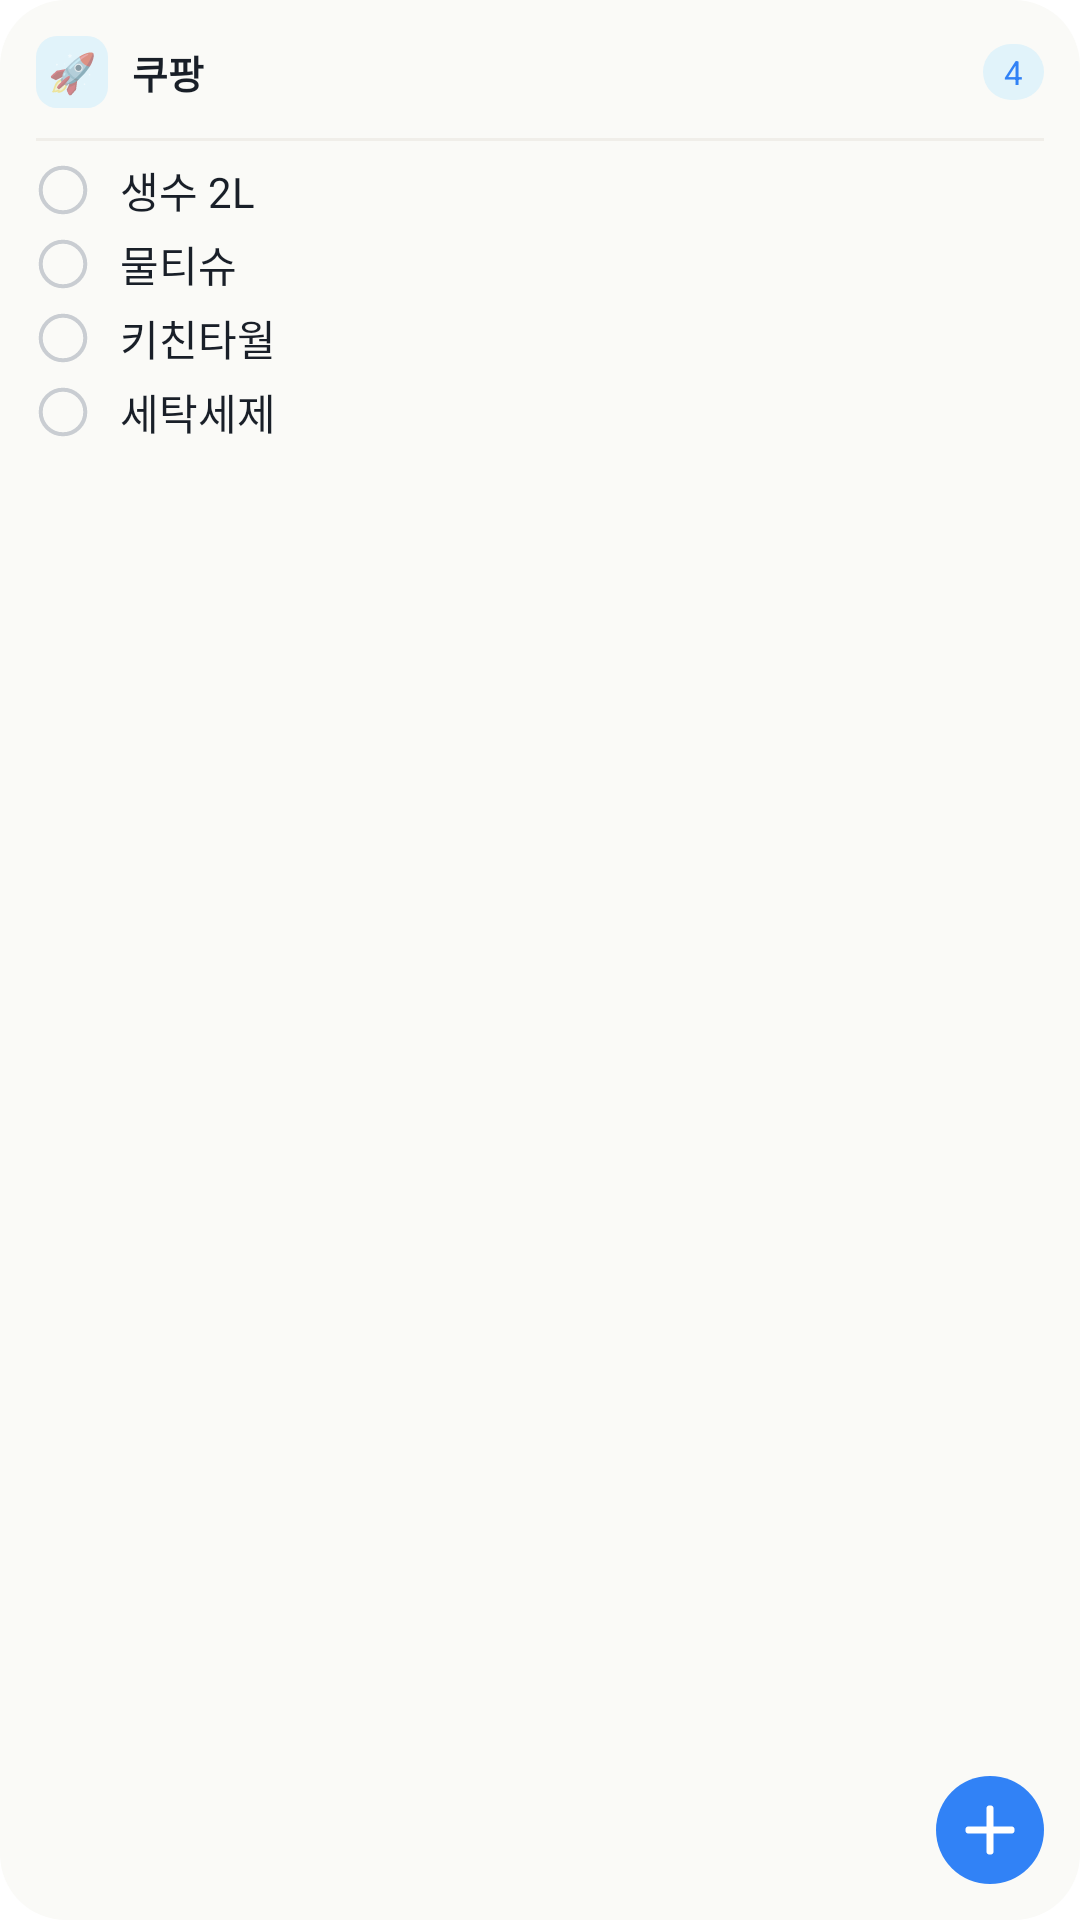

Where to tap for icons on this 1080×1920 app screen, as [x,y]:
widget check off: [63,190], [63,264], [63,338], [63,412]
widget fab: [990,1830]
